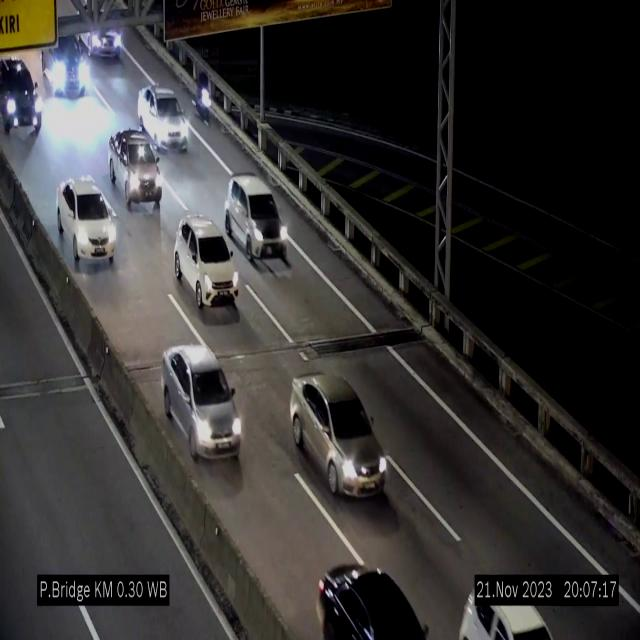Car: (290, 373, 388, 495), (312, 553, 436, 640), (161, 345, 243, 464), (174, 218, 240, 312), (224, 174, 284, 264), (58, 178, 116, 271), (457, 585, 553, 640), (112, 127, 165, 210), (41, 22, 86, 99), (0, 56, 41, 138), (83, 5, 131, 70), (138, 86, 188, 148)
Motorcycle: (194, 66, 214, 132)
